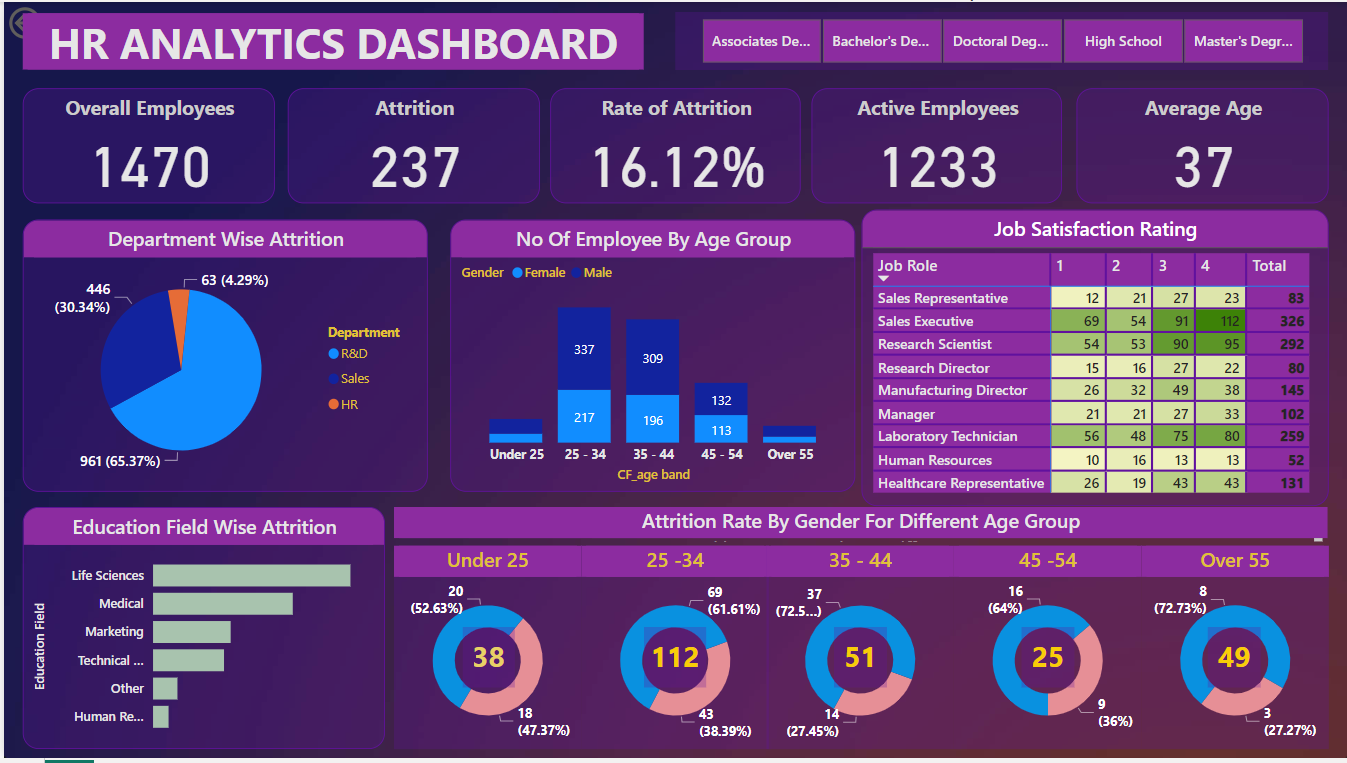

This screenshot's page, from the dashboard's own definition file:
{"tool":"powerbi","page":{"name":"Page 1","canvas":[1280,720],"ordinal":0},"visuals":[{"type":"card","title":"Overall Employees","fields":{"Values":["Sum(Sheet1.Employee Count)"]},"box":[17.8,82.3,240.1,109.8],"z":0},{"type":"actionButton","box":[0,0,100,40],"z":1000},{"type":"card","title":"Attrition","fields":{"Values":["Sum(Sheet1.Attrition Count)"]},"box":[270.3,82.3,240.1,109.8],"z":2000},{"type":"card","title":"Rate of Attrition","fields":{"Values":["Sheet1.Attrition Rate"]},"box":[520.1,82.3,238.8,109.8],"z":3000},{"type":"card","title":"Average Age","fields":{"Values":["Avg(Sheet1.Age)"]},"box":[1020.9,82.3,240.1,109.8],"z":4000},{"type":"card","title":"Active Employees","fields":{"Values":["Sheet1.active Employees"]},"box":[768.4,82.3,238.8,109.8],"z":5000},{"type":"pieChart","title":"Department Wise Attrition","fields":{"Category":["Sheet1.Department"],"Y":["CountNonNull(Sheet1.Attrition)"]},"box":[17.8,207.2,385.6,259.3],"z":6000},{"type":"columnChart","title":"No Of Employee By Age Group","fields":{"Y":["Sum(Sheet1.Employee Count)"],"Category":["Sheet1.CF_age band"],"Series":["Sheet1.Gender"]},"box":[425.4,207.2,385.6,259.3],"z":7000},{"type":"barChart","title":"Education Field Wise Attrition","fields":{"Category":["Sheet1.Education Field"],"Y":["Sum(Sheet1.Attrition Count)"]},"box":[17.8,480.3,344.4,230.5],"z":8000},{"type":"textbox","title":"Attrition Rate By Gender For Different Age Group","box":[371.9,480.3,889,38],"z":9000},{"type":"donutChart","title":"Under 25","fields":{"Category":["Sheet1.Gender"],"Y":["Sum(Sheet1.Attrition Count)"],"Series":["Sheet1.CF_age band"]},"box":[371.9,517.3,178.4,193.5],"z":10000},{"type":"donutChart","title":"25 -34","fields":{"Category":["Sheet1.Gender"],"Y":["Sum(Sheet1.Attrition Count)"],"Series":["Sheet1.CF_age band"]},"box":[550.3,517.3,178.4,193.5],"z":11000},{"type":"donutChart","title":"35 - 44","fields":{"Category":["Sheet1.Gender"],"Y":["Sum(Sheet1.Attrition Count)"],"Series":["Sheet1.CF_age band"]},"box":[725.9,517.3,178.4,193.5],"z":12000},{"type":"donutChart","title":"45 -54","fields":{"Category":["Sheet1.Gender"],"Y":["Sum(Sheet1.Attrition Count)"],"Series":["Sheet1.CF_age band"]},"box":[904.3,517.3,178.4,193.5],"z":13000},{"type":"donutChart","title":"Over 55","fields":{"Category":["Sheet1.Gender"],"Y":["Sum(Sheet1.Attrition Count)"],"Series":["Sheet1.CF_age band"]},"box":[1082.7,517.3,178.4,193.5],"z":14000},{"type":"card","fields":{"Values":["Sum(Sheet1.Attrition Count)"]},"box":[436.4,595.5,49.4,57.6],"z":15000},{"type":"card","fields":{"Values":["Sum(Sheet1.Attrition Count)"]},"box":[968.8,595.5,50.8,57.6],"z":16000},{"type":"card","fields":{"Values":["Sum(Sheet1.Attrition Count)"]},"box":[1145.8,595.5,50.8,57.6],"z":17000},{"type":"card","fields":{"Values":["Sum(Sheet1.Attrition Count)"]},"box":[790.4,595.5,50.8,57.6],"z":18000},{"type":"card","fields":{"Values":["Sum(Sheet1.Attrition Count)"]},"box":[609.3,595.5,59,57.6],"z":19000},{"type":"textbox","title":"HR ANALYTICS DASHBOARD","box":[17.8,11,591.4,53.5],"z":20000},{"type":"slicer","fields":{"Values":["Sheet1.Education"]},"box":[639.5,9.6,621.6,54.9],"z":21000},{"type":"pivotTable","title":"Job Satisfaction Rating","fields":{"Rows":["Sheet1.Job Role"],"Columns":["Sheet1.Job Satisfaction"],"Values":["Sum(Sheet1.Employee Count)"]},"box":[816.5,197.6,444.6,282.7],"z":22000}]}

Visuals, with their boxes in screenshot pixels (x1, y1, x2, y2), scaled from the page's 1280x720 canvas onto the 1347x763 screenshot:
"Overall Employees" card: {"left": 19, "top": 87, "right": 271, "bottom": 204}
actionButton: {"left": 0, "top": 0, "right": 105, "bottom": 42}
"Attrition" card: {"left": 284, "top": 87, "right": 537, "bottom": 204}
"Rate of Attrition" card: {"left": 547, "top": 87, "right": 799, "bottom": 204}
"Average Age" card: {"left": 1074, "top": 87, "right": 1327, "bottom": 204}
"Active Employees" card: {"left": 809, "top": 87, "right": 1060, "bottom": 204}
"Department Wise Attrition" pieChart: {"left": 19, "top": 220, "right": 425, "bottom": 494}
"No Of Employee By Age Group" columnChart: {"left": 448, "top": 220, "right": 853, "bottom": 494}
"Education Field Wise Attrition" barChart: {"left": 19, "top": 509, "right": 381, "bottom": 753}
"Attrition Rate By Gender For Different Age Group" textbox: {"left": 391, "top": 509, "right": 1327, "bottom": 549}
"Under 25" donutChart: {"left": 391, "top": 548, "right": 579, "bottom": 753}
"25 -34" donutChart: {"left": 579, "top": 548, "right": 767, "bottom": 753}
"35 - 44" donutChart: {"left": 764, "top": 548, "right": 952, "bottom": 753}
"45 -54" donutChart: {"left": 952, "top": 548, "right": 1139, "bottom": 753}
"Over 55" donutChart: {"left": 1139, "top": 548, "right": 1327, "bottom": 753}
card - Sum(Sheet1.Attrition Count): {"left": 459, "top": 631, "right": 511, "bottom": 692}
card - Sum(Sheet1.Attrition Count): {"left": 1020, "top": 631, "right": 1073, "bottom": 692}
card - Sum(Sheet1.Attrition Count): {"left": 1206, "top": 631, "right": 1259, "bottom": 692}
card - Sum(Sheet1.Attrition Count): {"left": 832, "top": 631, "right": 885, "bottom": 692}
card - Sum(Sheet1.Attrition Count): {"left": 641, "top": 631, "right": 703, "bottom": 692}
"HR ANALYTICS DASHBOARD" textbox: {"left": 19, "top": 12, "right": 641, "bottom": 68}
slicer - Sheet1.Education: {"left": 673, "top": 10, "right": 1327, "bottom": 68}
"Job Satisfaction Rating" pivotTable: {"left": 859, "top": 209, "right": 1327, "bottom": 509}
